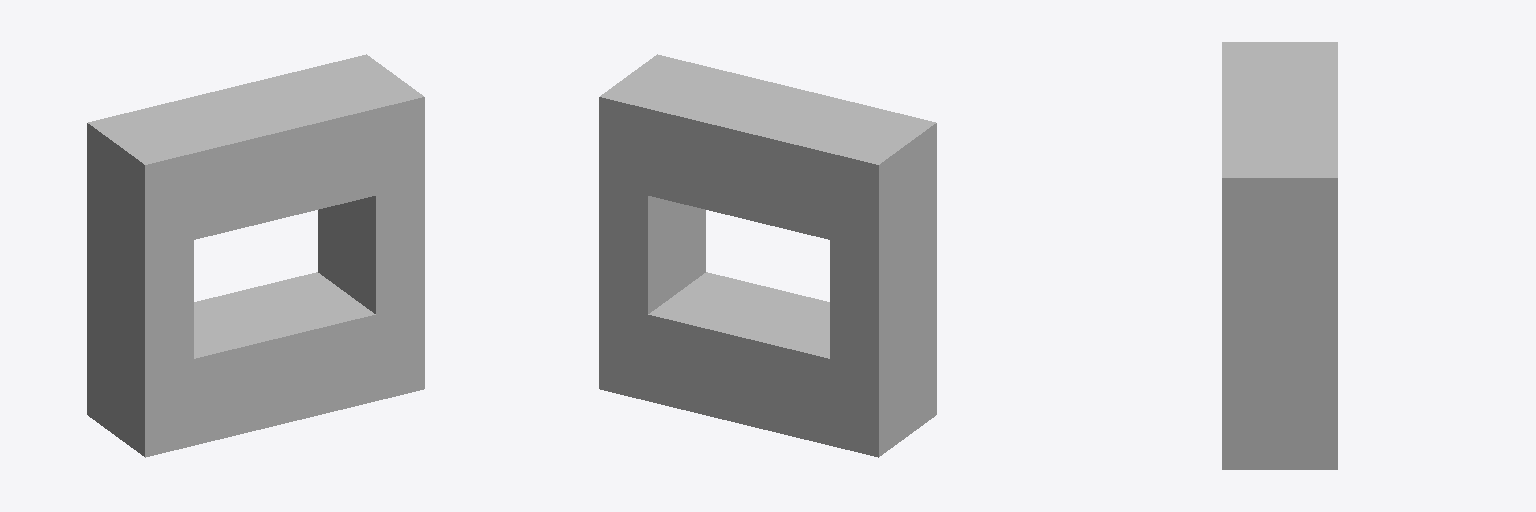
Rendered from factory_rectangular_hole_16mm_subdiv_3x.obj.
The picture shows the model from 3 angles: view 1: azimuth 30°, elevation 25°; view 2: azimuth 150°, elevation 25°; view 3: azimuth 270°, elevation 25°; orthographic projection.
Visible parts, largest first — view 1: mesh4, mesh2, mesh1, mesh9, mesh6; view 2: mesh5, mesh2, mesh1, mesh9, mesh6; view 3: mesh0, mesh1.
Boxes of the visible parts, x1,y1,x2,y2 form: mesh4: [145, 97, 424, 457]; mesh2: [87, 123, 144, 456]; mesh1: [88, 54, 423, 164]; mesh9: [194, 272, 375, 358]; mesh6: [318, 196, 375, 313]; mesh5: [599, 97, 878, 457]; mesh2: [879, 123, 936, 456]; mesh1: [600, 54, 935, 164]; mesh9: [648, 272, 829, 358]; mesh6: [648, 196, 705, 313]; mesh0: [1222, 178, 1337, 469]; mesh1: [1222, 42, 1337, 177].
Bounding box in the file's own units: 0.025 × 0.025 × 0.009.